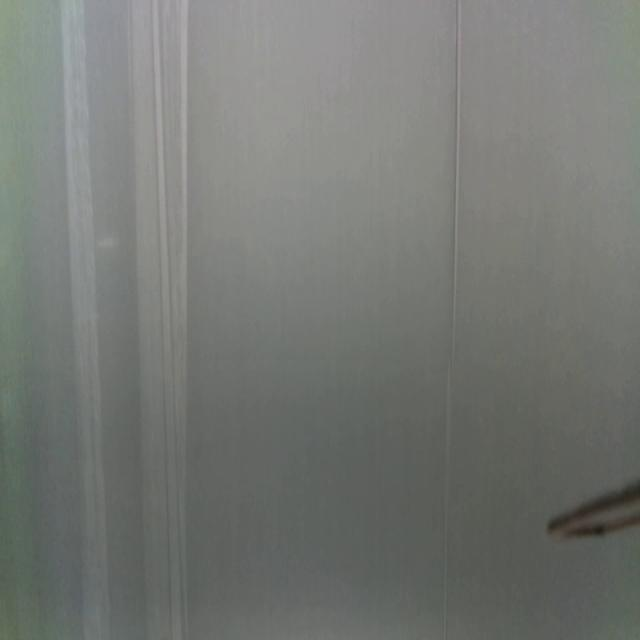crease: (131, 0, 189, 640), (60, 0, 111, 640), (441, 0, 463, 640)
